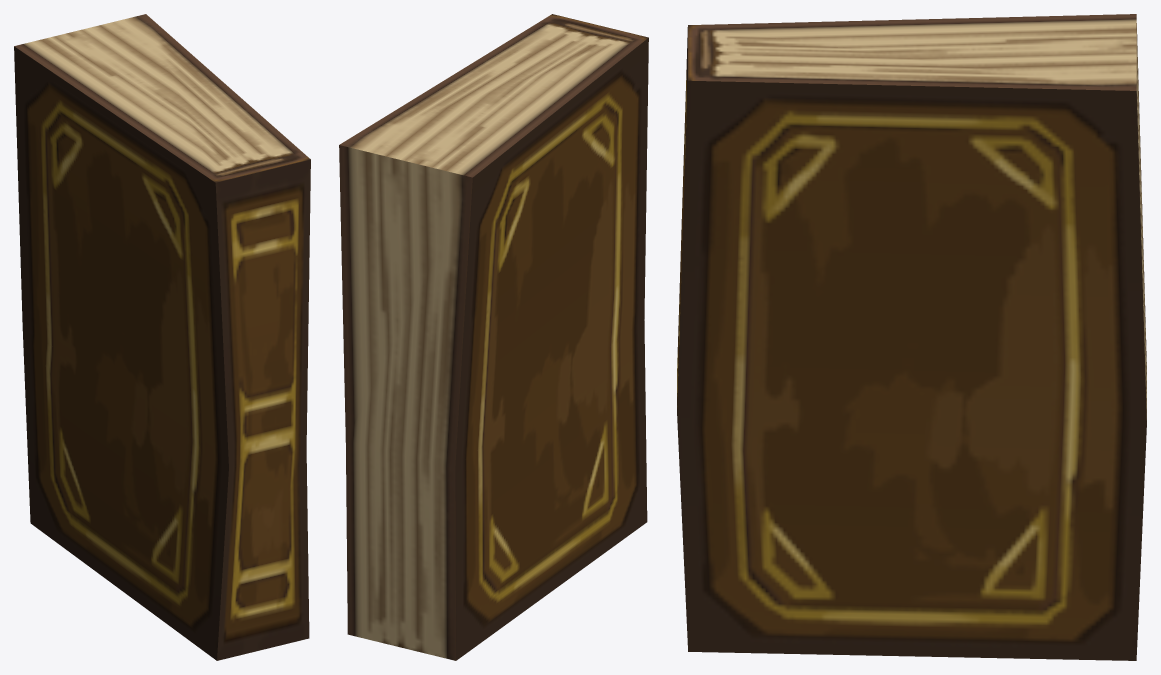
File: SM_PROP_book_interior_01.fbx
3 views of the same model, side by side, from view 1: azimuth 30°, elevation 25°; view 2: azimuth 150°, elevation 25°; view 3: azimuth 270°, elevation 25° (orthographic). The views are drawn at different scales.
Parts seen in each view (by area): view 1: SM_PROP_book_interior_01; view 2: SM_PROP_book_interior_01; view 3: SM_PROP_book_interior_01.
Boxes of the visible parts, <box> form: SM_PROP_book_interior_01: <box>14,14,310,660</box>; SM_PROP_book_interior_01: <box>339,14,648,660</box>; SM_PROP_book_interior_01: <box>677,14,1146,660</box>.
Bounding box in the file's own units: 10 × 34.82 × 25.78.
